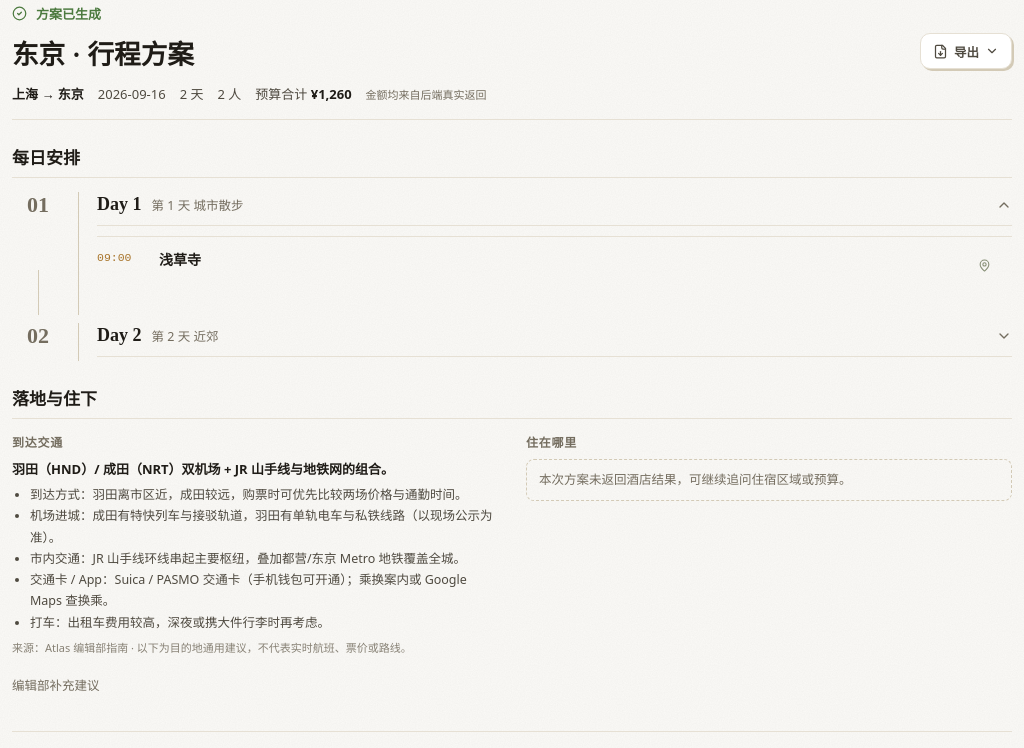
Test: ItineraryWorkspace reading mode (R1 结构) › closes the export menu with Escape and reports aria state
Click the button "导出".
click(966, 51)  # box [920,33,1012,69]
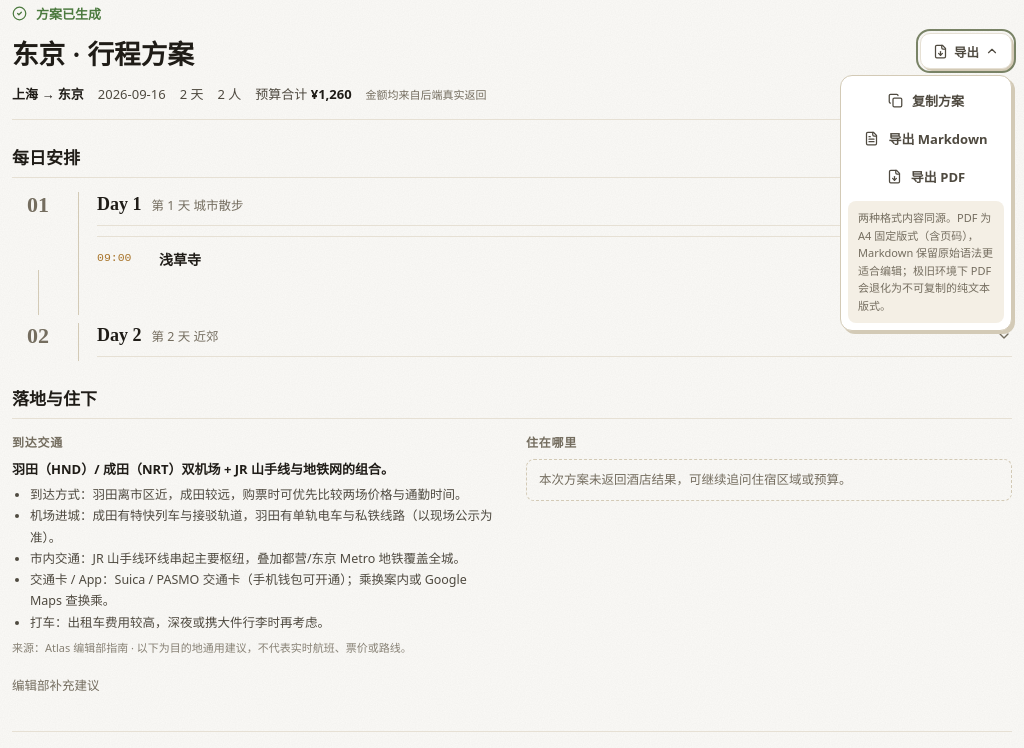
Check: the button "导出" is expanded, box [920,33,1012,69]
Check: the menu item "导出 PDF" is shown, box [846,157,1006,195]
Press Escape
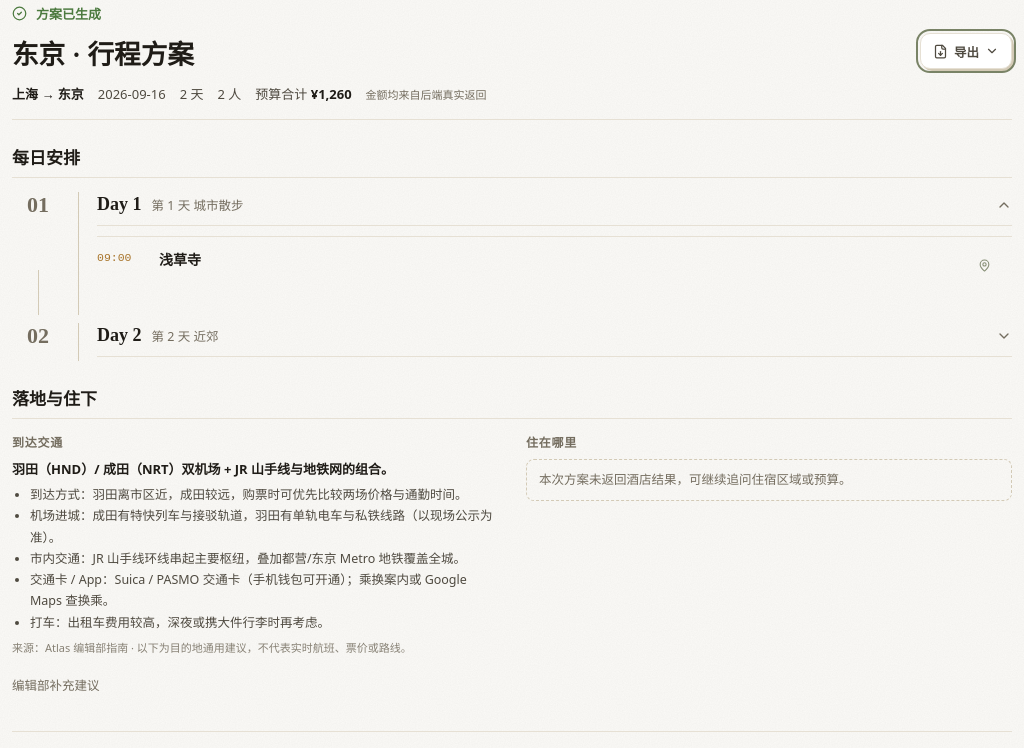
Check: the button "导出" is collapsed, box [920,33,1012,69]
Check: the menu item "导出 PDF" is gone
